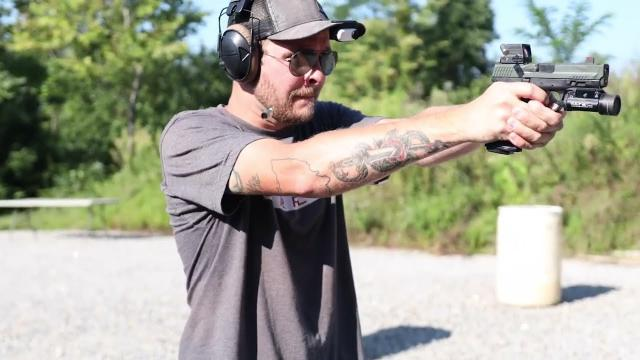handgun: (482, 40, 624, 158)
